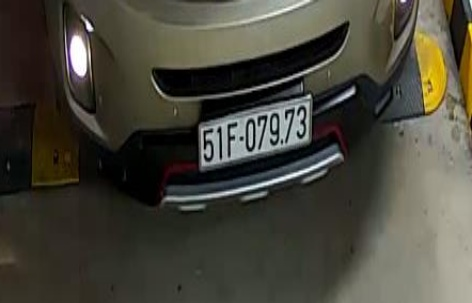plate: (188, 92, 314, 168)
